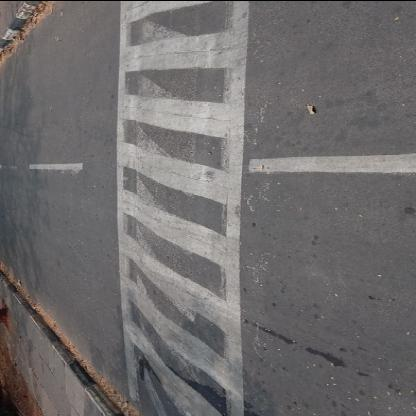speed-bumps: (111, 1, 257, 415)
